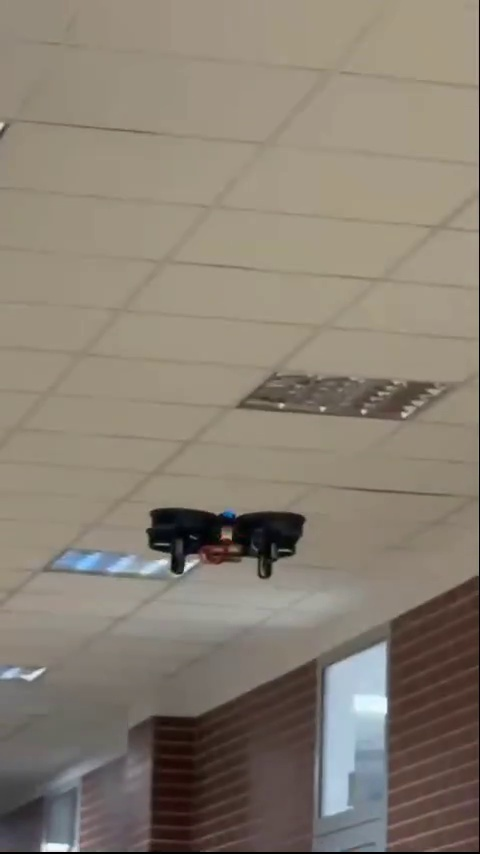drone: (146, 500, 306, 595)
